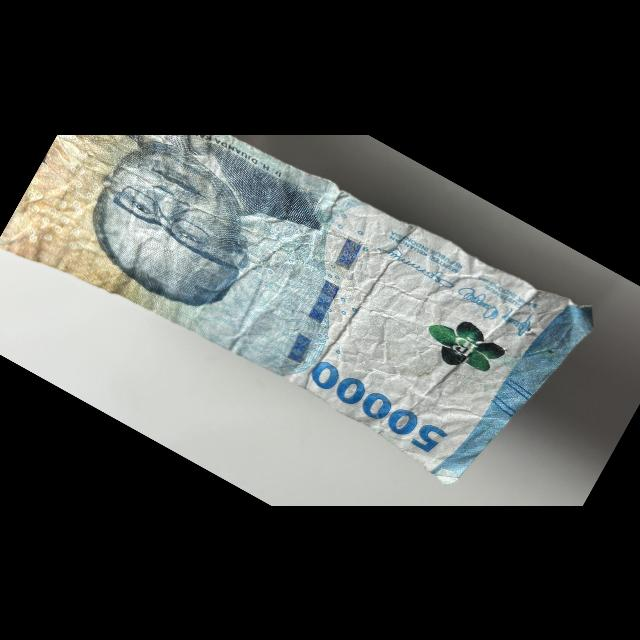Palsu-50k: (0, 62, 612, 522)
Tinta-Palsu-50k: (413, 302, 513, 388)
